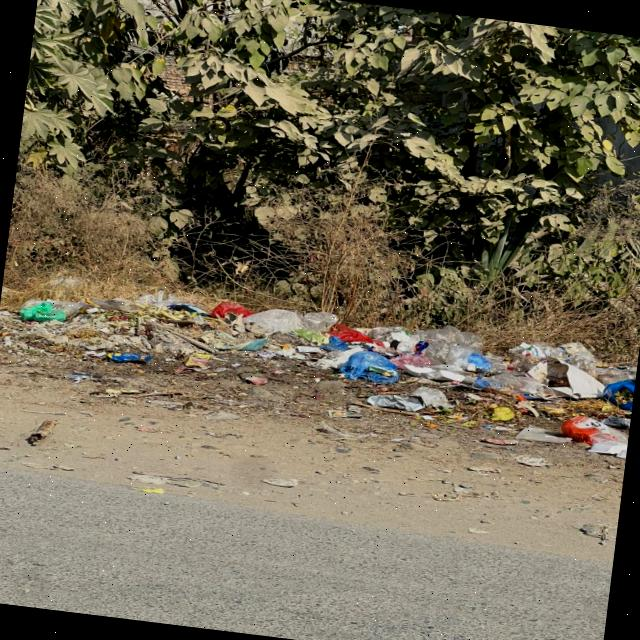garbage: (26, 274, 639, 451)
